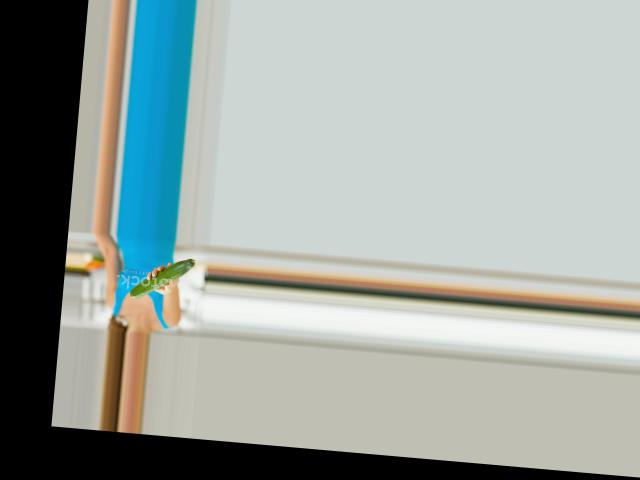cucumber: (129, 253, 194, 302)
